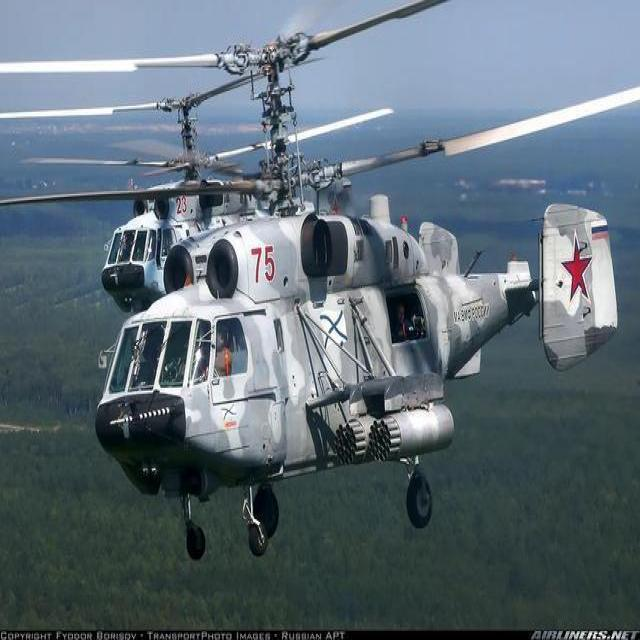MIL_HELO: (0, 11, 639, 574)
